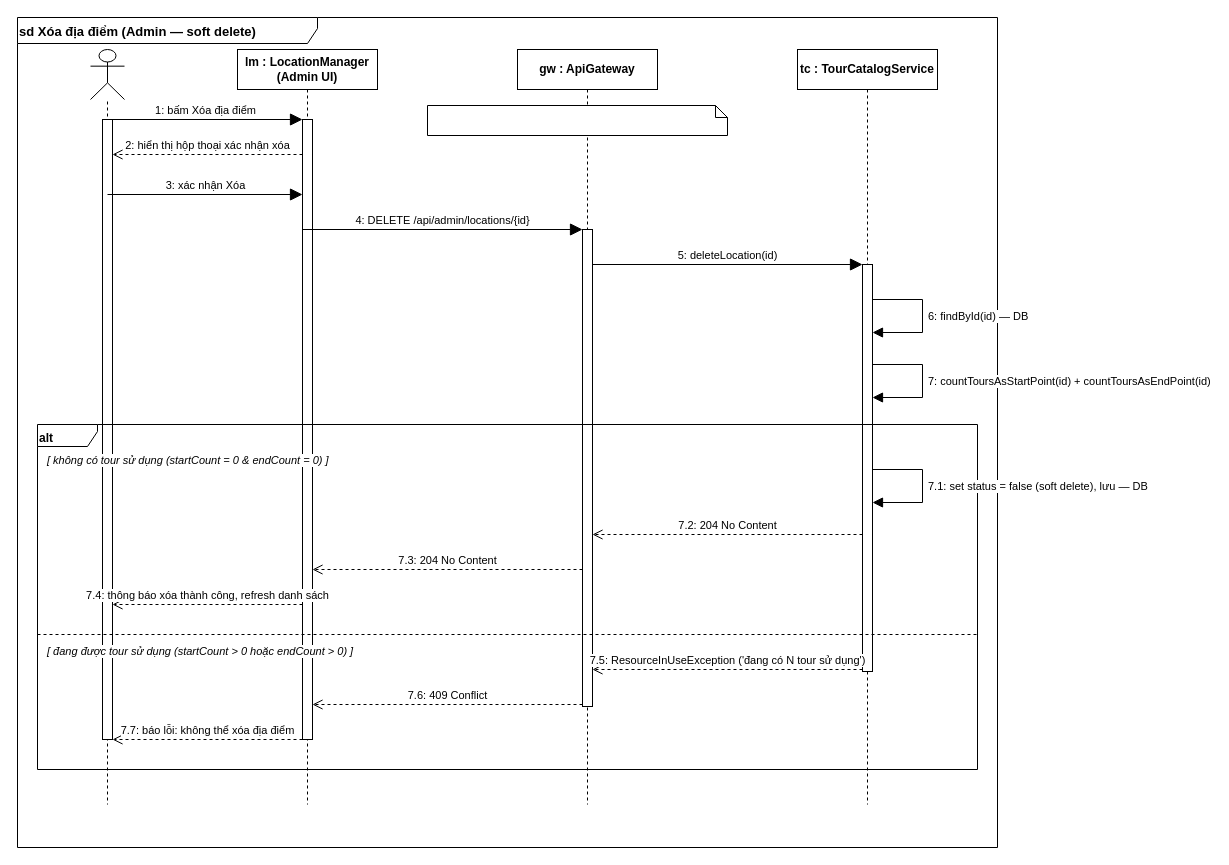
The diagram is 1229 pixels wide and 865 high, and some of its shapes have lost their labels. Each missing label, with the centre of its shape:
"Admin" belongs at [107,74].
"findById(id) ném 404 nếu địa điểm không tồn tại" belongs at [577,120].
